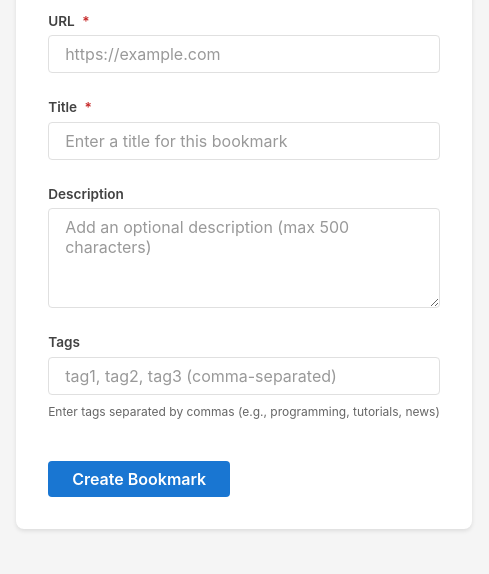
Test: BookmarkForm › validates URL format
The image size is (489, 574).
Type "invalid-url" into the field labelled "URL *".
click(244, 54); type("invalid-url")  # box [48,35,440,73]
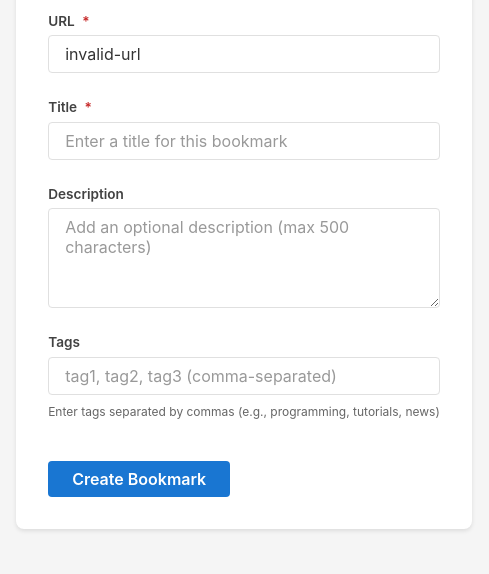
Type "Test Title" into the field labelled "Title *".
click(244, 141); type("Test Title")  # box [48,122,440,160]
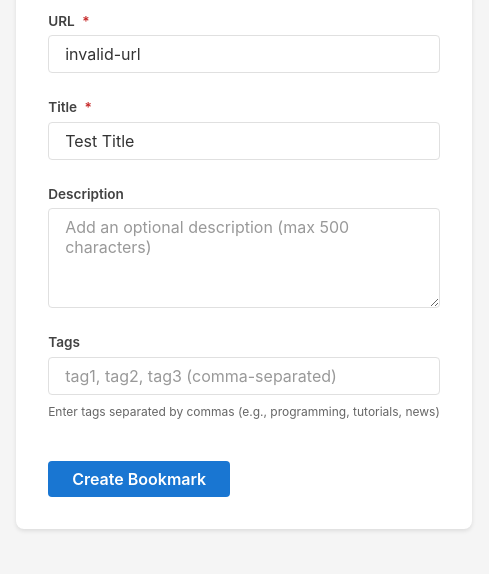
Click the button "Create Bookmark".
click(139, 479)  # box [48,461,230,497]
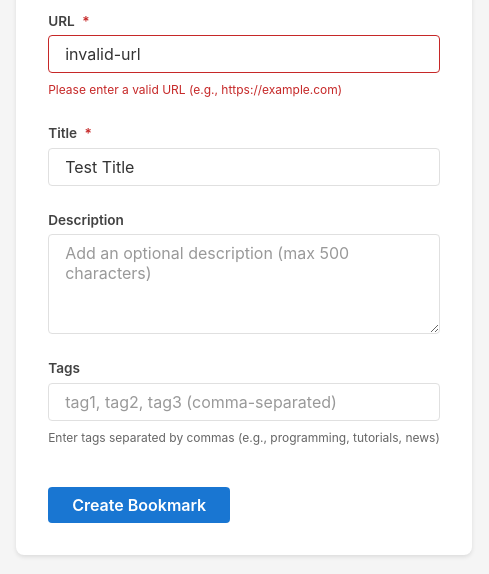
Check: the text "Please enter a valid URL (e.g., https://example.com)" is shown, box [48,82,342,97]
